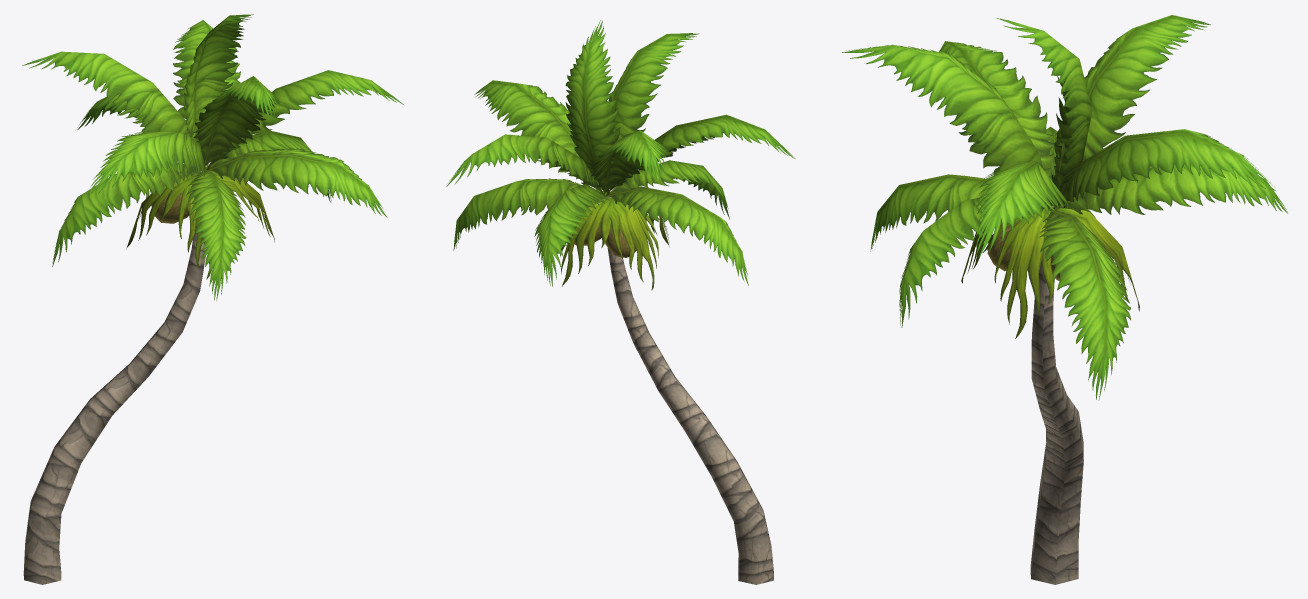
The model's file is SC_yezishu01.FBX.
3 renders of one model, left to right at view 1: azimuth 30°, elevation 25°; view 2: azimuth 150°, elevation 25°; view 3: azimuth 270°, elevation 25°, orthographic. The views are drawn at different scales.
Visible parts, largest first — view 1: SC_yezishu01; view 2: SC_yezishu01; view 3: SC_yezishu01.
Part boxes in pixels (x1=…): SC_yezishu01: x1=22, y1=14, x2=403, y2=584; SC_yezishu01: x1=446, y1=20, x2=795, y2=584; SC_yezishu01: x1=842, y1=15, x2=1287, y2=584.
Size of the model in its own units: 8.29 by 11.92 by 7.39.
